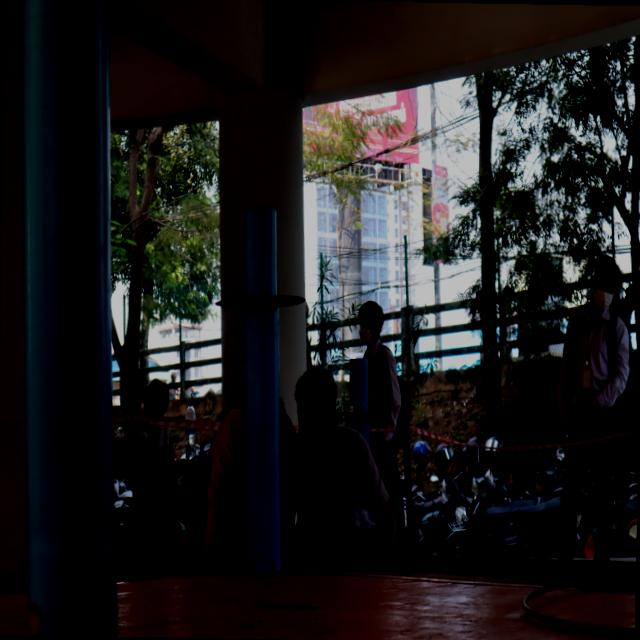pole: (216, 202, 306, 392), (338, 354, 372, 439)
